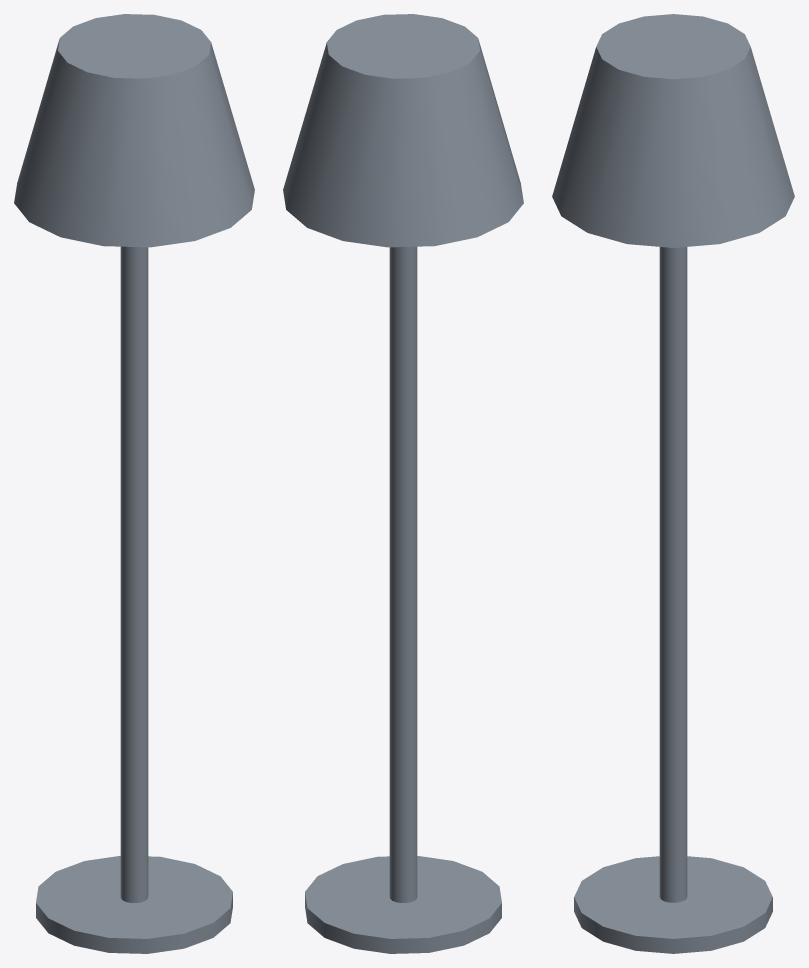
The model's file is floor-lamp.glb.
The picture shows the model from 3 angles, left to right: view 1: azimuth 30°, elevation 25°; view 2: azimuth 150°, elevation 25°; view 3: azimuth 270°, elevation 25°; orthographic projection.
Visible parts, largest first — view 1: floor-lamp; view 2: floor-lamp; view 3: floor-lamp.
Boxes of the visible parts, x1,y1,x2,y2 form: floor-lamp: [14, 14, 254, 953]; floor-lamp: [283, 14, 523, 953]; floor-lamp: [552, 14, 794, 953].
Bounding box in the file's own units: 0.44 × 1.73 × 0.44.
